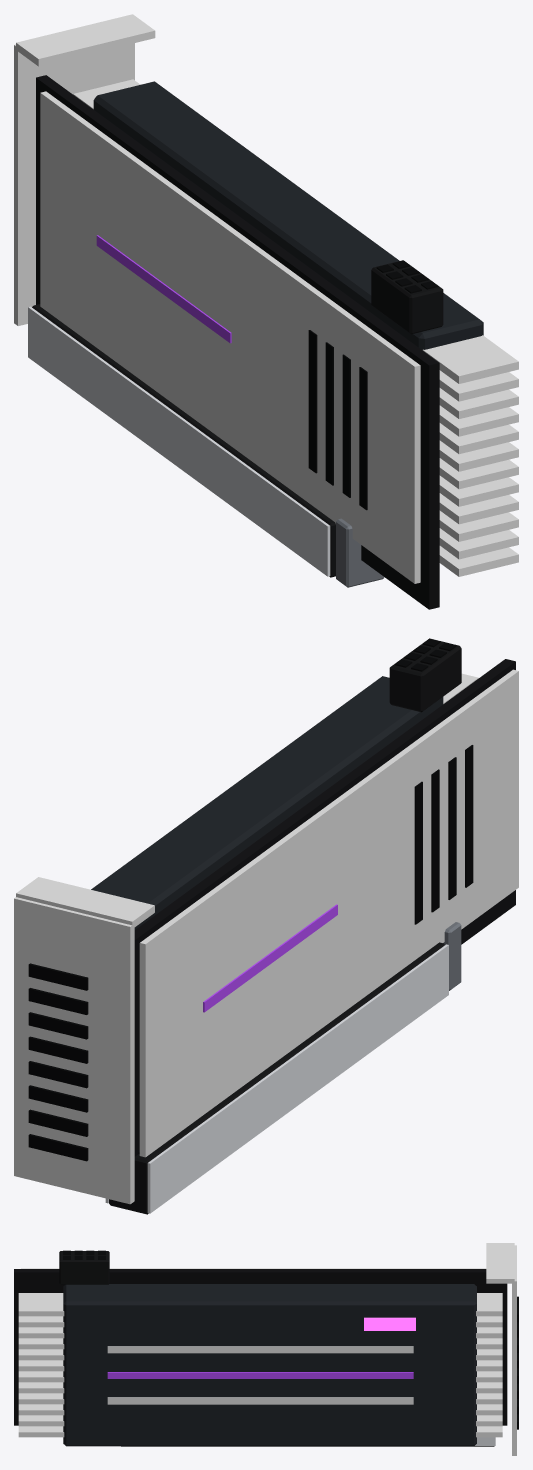
The model's file is hwm_gpu_tesla_p4.glb.
3 renders of one model, top to bottom at view 1: azimuth 30°, elevation 25°; view 2: azimuth 150°, elevation 25°; view 3: azimuth 270°, elevation 25°, orthographic. The views are drawn at different scales.
Visible parts, largest first — view 1: Card_0, Slot_0; view 2: Card_0, Slot_0; view 3: Card_0, Slot_0.
Boxes of the visible parts, x1,y1,x2,y2 form: Card_0: (14,14,518,609); Slot_0: (28,304,384,587); Card_0: (14,638,518,1204); Slot_0: (105,922,461,1214); Card_0: (14,1243,518,1455); Slot_0: (121,1437,495,1446).
Size of the model in its own units: 0.0369 by 0.0916 by 0.2149.
